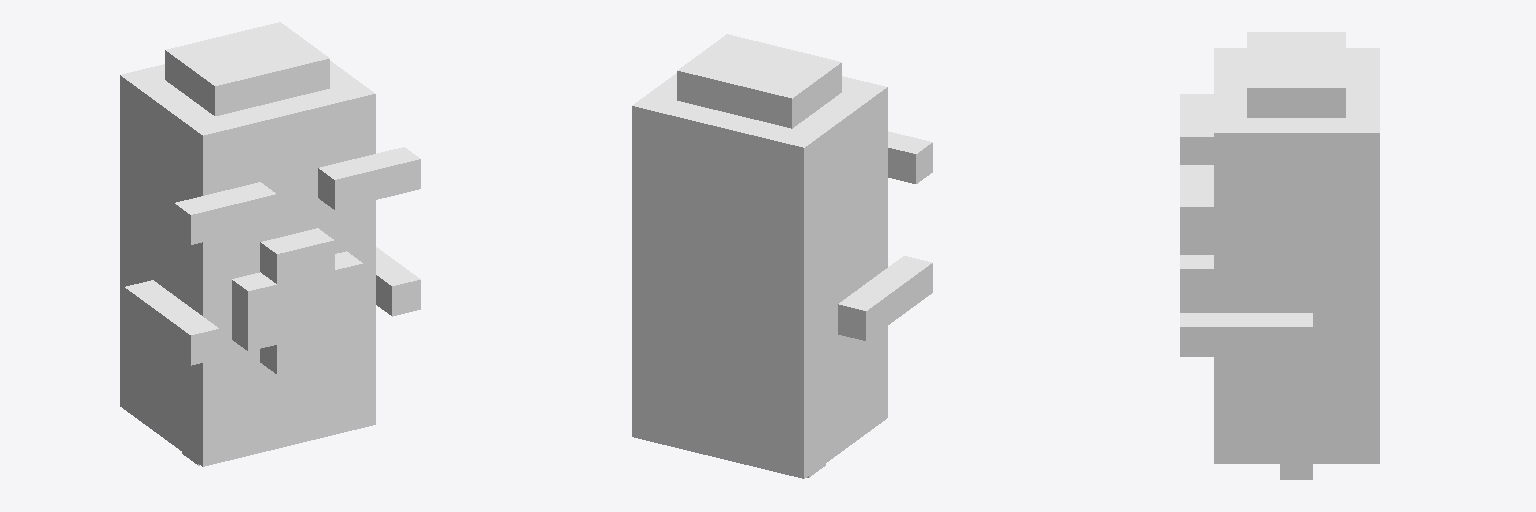
Rendered from chr_old_bh.obj.
3 renders of one model, left to right at view 1: azimuth 30°, elevation 25°; view 2: azimuth 150°, elevation 25°; view 3: azimuth 270°, elevation 25°, orthographic.
Parts seen in each view (by area): view 1: chr_old_bh; view 2: chr_old_bh; view 3: chr_old_bh.
Boxes of the visible parts, box(x1,y1,x2,y2) form: chr_old_bh: box(120, 22, 420, 466); chr_old_bh: box(632, 34, 932, 478); chr_old_bh: box(1180, 32, 1379, 479).
Bounding box in the file's own units: 8 × 13 × 6.